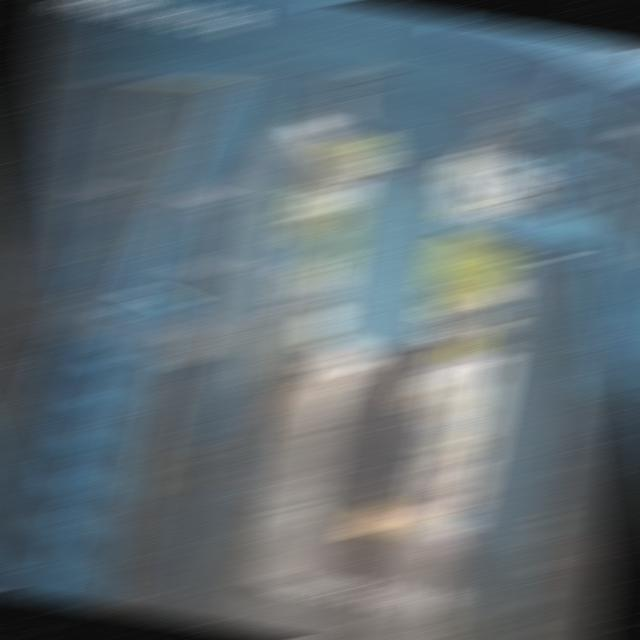cement_mixer_truck: (311, 287, 458, 508)
